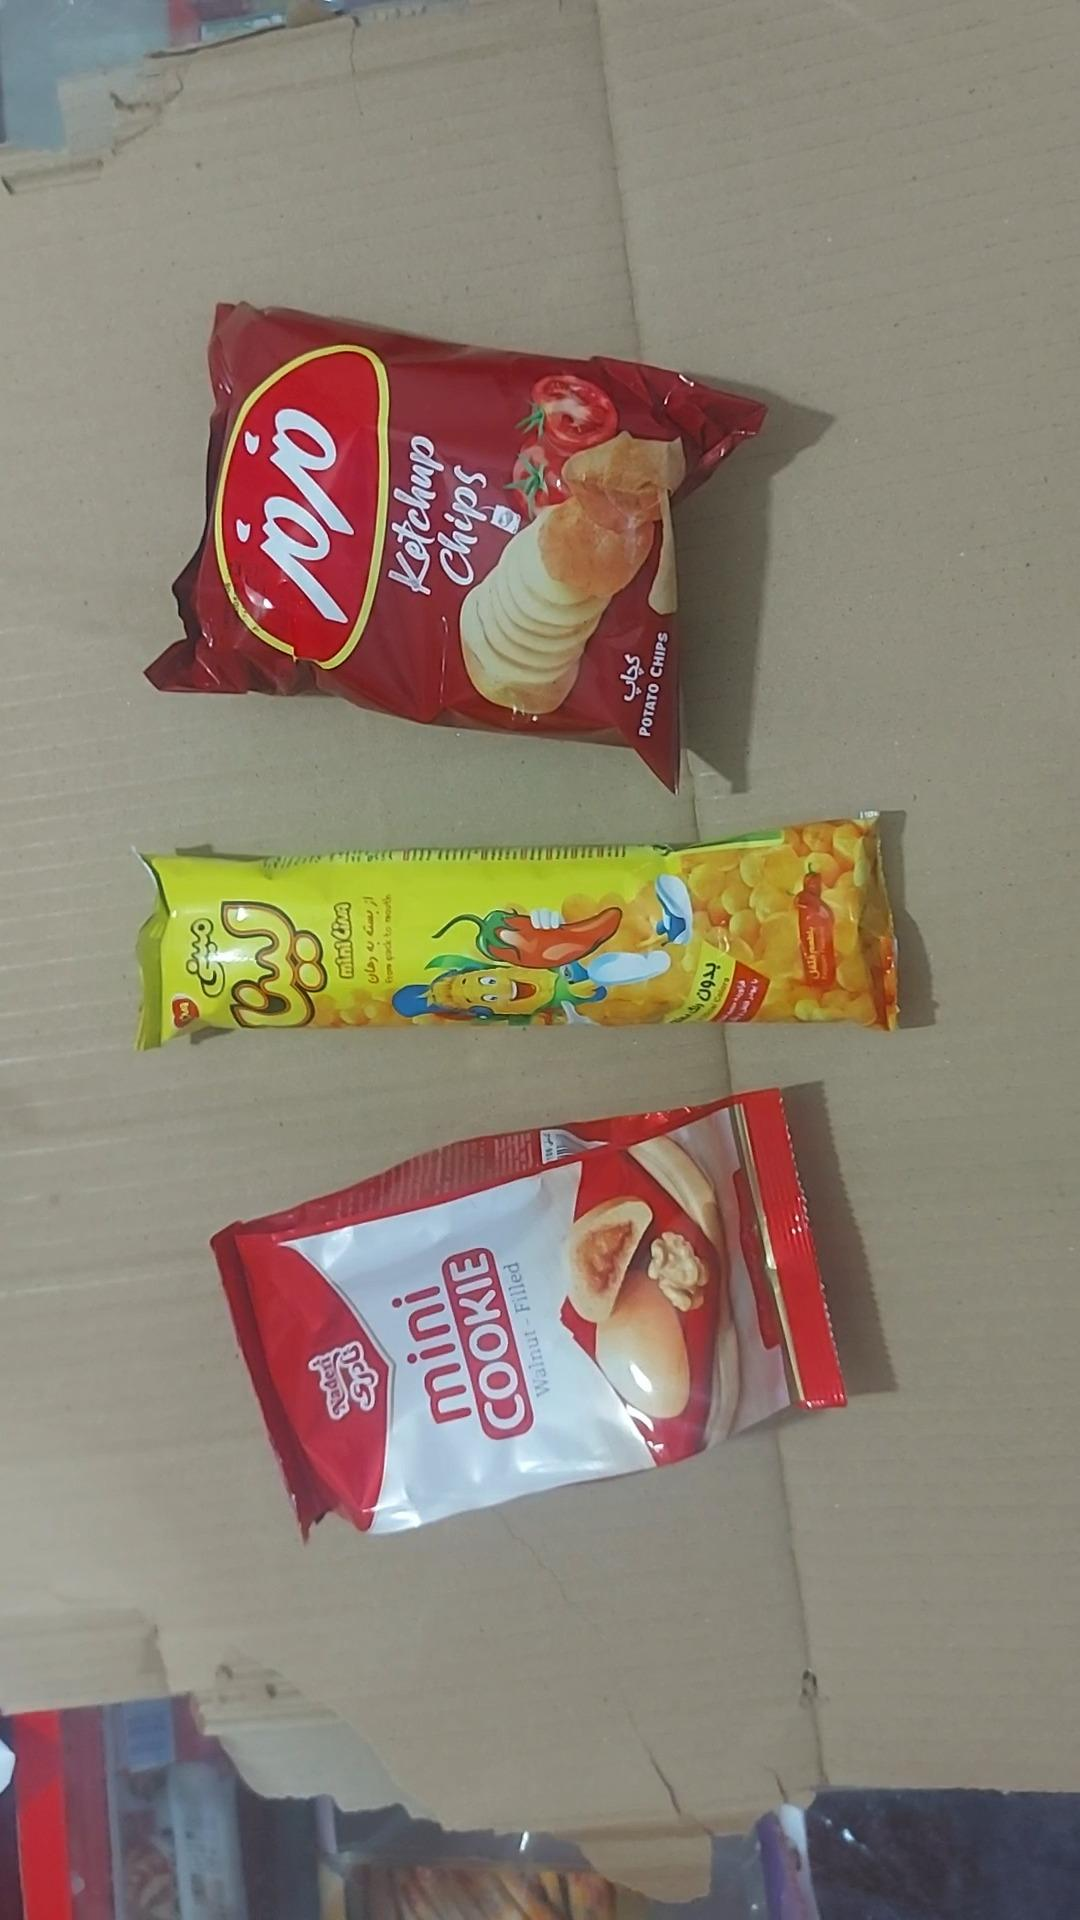Maz Maz ketchup chips: (146, 305, 764, 790)
Mini Lina: (137, 819, 897, 1048)
Naderi mini cookie: (212, 1091, 844, 1536)
